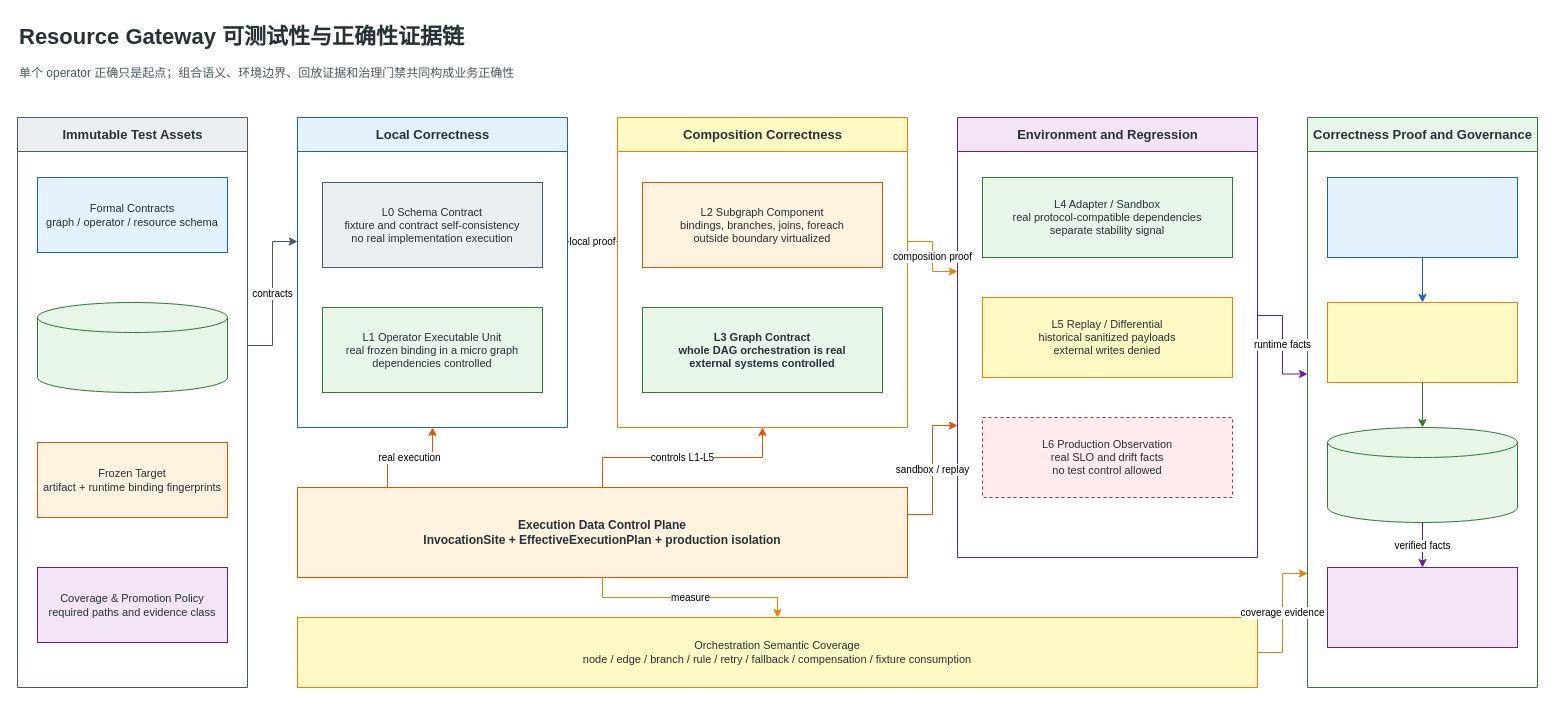
This 1555x705 diagram has some shape labels left out. Each missing label, with the centre of its shape:
ANEKE Workbook / Publish Gate policy decision, not runtime fact: the point at 1422,607
Effective Plan + Trace actual REAL / MOCK / REPLAY sites: the point at 1422,217
FixtureBundle inputs / doubles / faults / time / seed: the point at 132,347
Semantic Coverage node / edge / rule / failure path: the point at 1422,342
Signed TestRunEvidence target + fixture + plan fingerprints: the point at 1422,474
